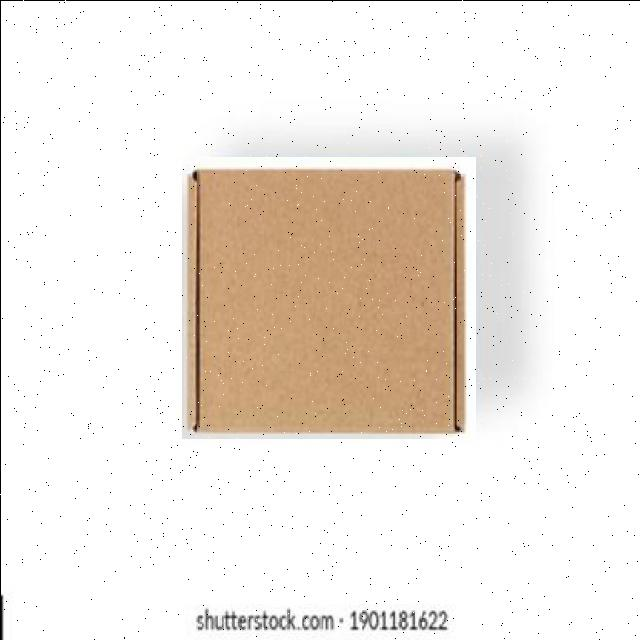normal: (182, 156, 476, 438)
